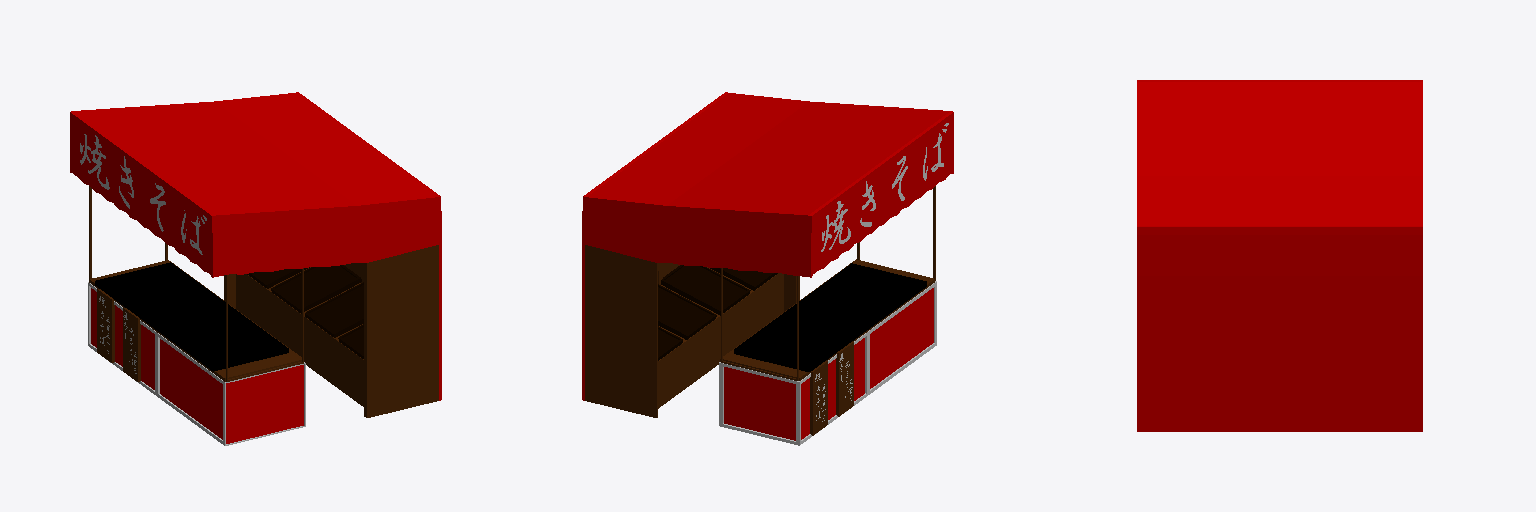
Rendered from Yakisoba.obj.
3 views of the same model, side by side, from view 1: azimuth 30°, elevation 25°; view 2: azimuth 150°, elevation 25°; view 3: azimuth 270°, elevation 25° (orthographic).
Visible parts, largest first — view 1: 立方体.007; view 2: 立方体.007; view 3: 立方体.007.
Part boxes in pixels (x1,y1,x2,y2): 立方体.007: (70,92,441,445); 立方体.007: (582,92,953,445); 立方体.007: (1137,80,1422,431).
Bounding box in the file's own units: 7.54 × 7.53 × 8.11.